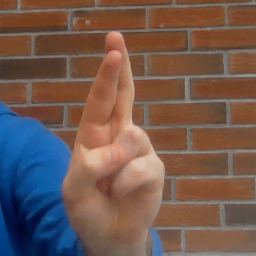R: (58, 28, 171, 232)
